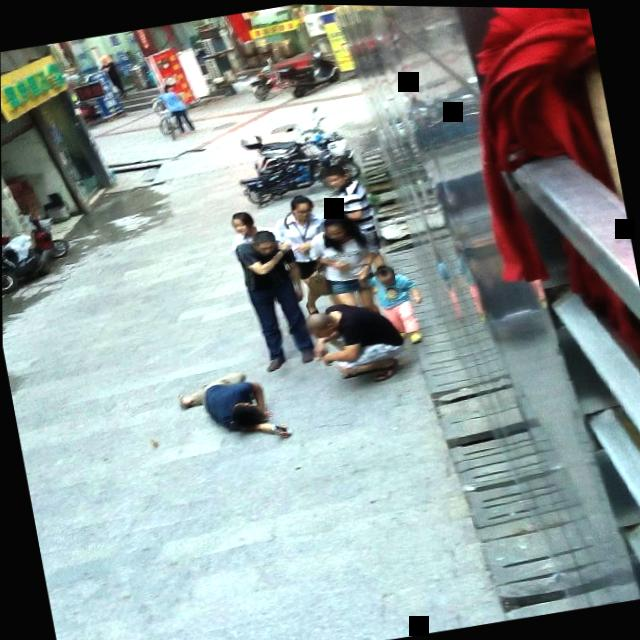Fall-Detected: (165, 352, 299, 453)
